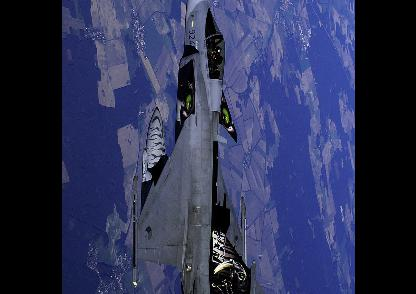JAS39: (132, 0, 269, 291)
